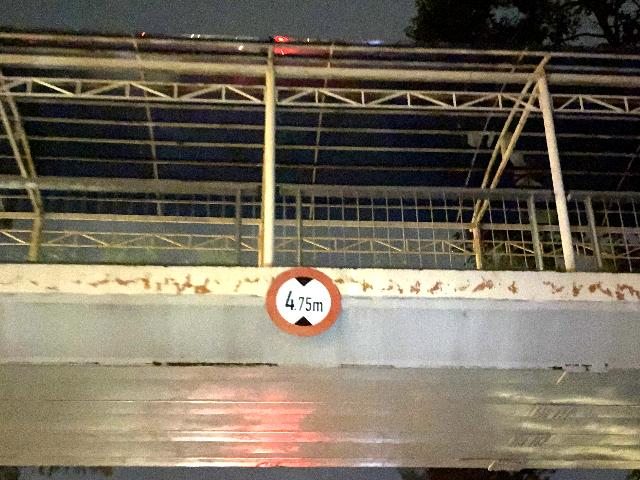han-che-chieu-cao: (265, 267, 342, 338)
